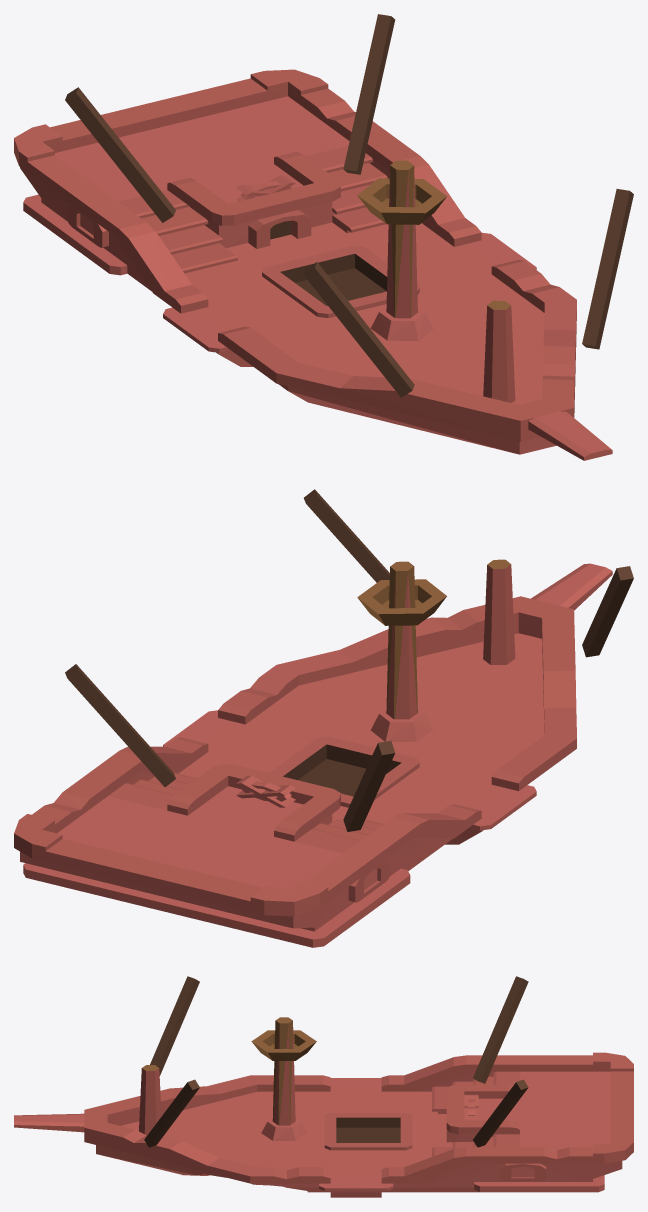
The model's file is wreck-ribs.glb.
3 views of the same model, one above another, from view 1: azimuth 30°, elevation 25°; view 2: azimuth 150°, elevation 25°; view 3: azimuth 270°, elevation 25° (orthographic). The views are drawn at different scales.
Visible parts, largest first — view 1: wreck-ribs; view 2: wreck-ribs; view 3: wreck-ribs.
Part boxes in pixels (left/top/right/bottom): wreck-ribs: left=14, top=14, right=633, bottom=460; wreck-ribs: left=14, top=489, right=633, bottom=947; wreck-ribs: left=14, top=976, right=633, bottom=1197.
Size of the model in its own units: 2.67 by 1.6 by 6.3.
